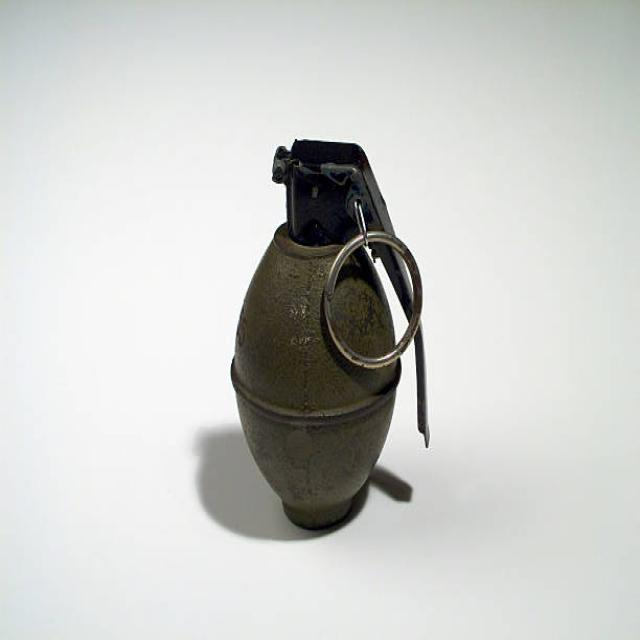grenade: (228, 130, 438, 543)
